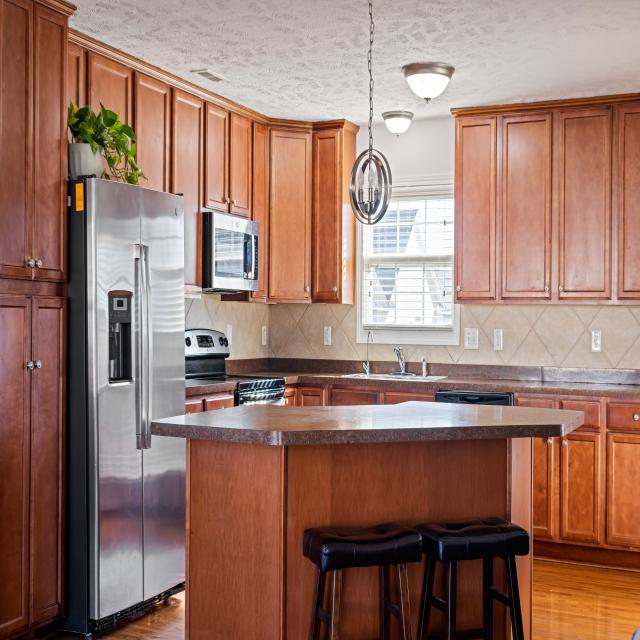Appliance_Dishwasher: (434, 390, 518, 406)
Appliance_Microwave: (201, 210, 259, 292)
Appliance_Oven: (184, 329, 284, 407)
Cabinet_Flat: (517, 395, 640, 432), (331, 392, 435, 405), (185, 393, 234, 413)
Cabinet_Shaker: (62, 44, 358, 304), (0, 0, 75, 640), (453, 94, 640, 307), (534, 432, 640, 551), (285, 386, 326, 406)
Countertop_Granite: (151, 401, 588, 446), (183, 371, 640, 399)
